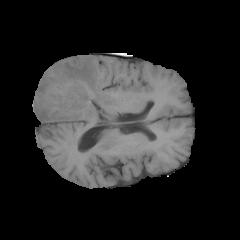glioma: (34, 58, 107, 122)
